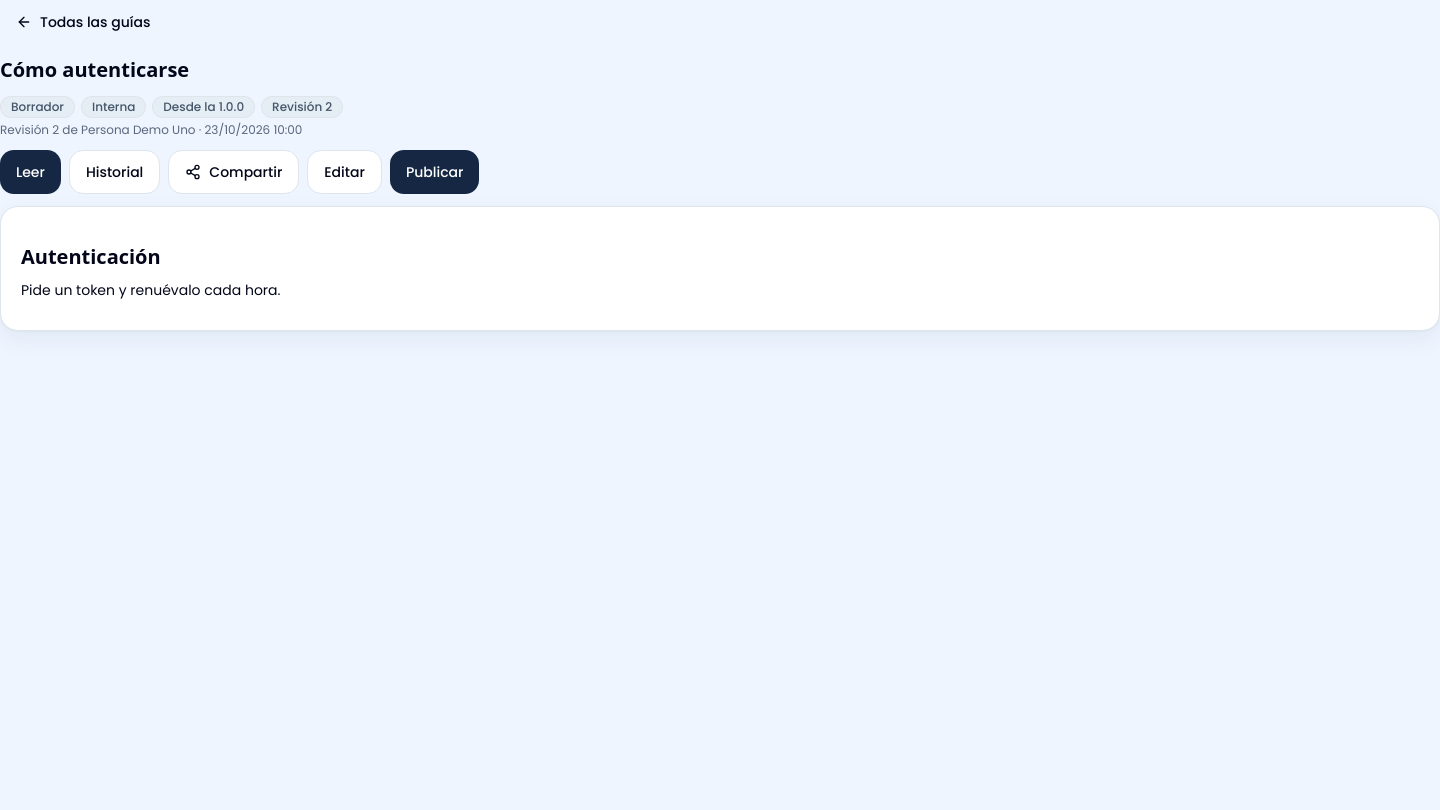
it: GuiasDelContrato › el historial compara dos revisiones línea a línea y restaura una creando otra
Click the button "Historial".
click(115, 172)  # box [69,150,160,194]
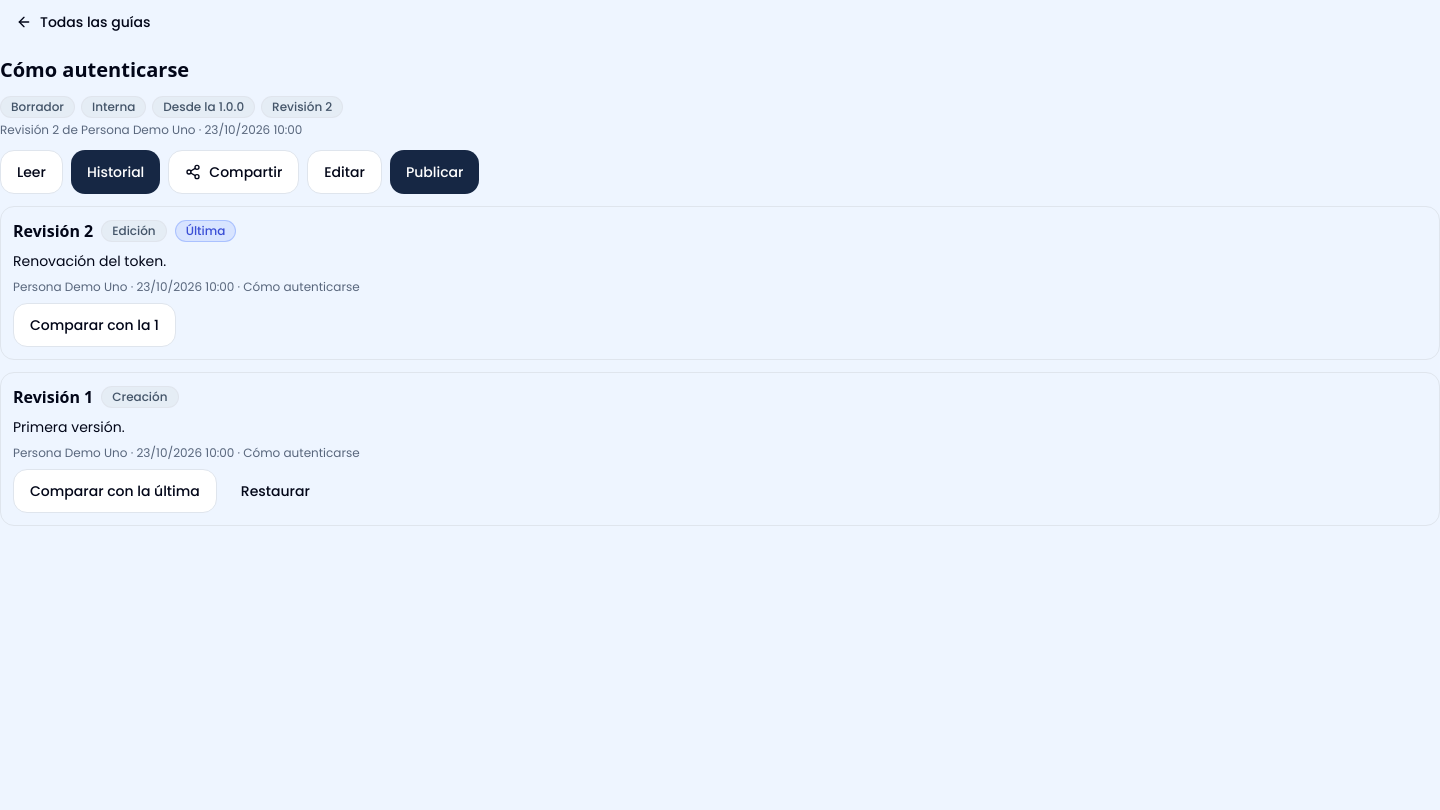
Result: the number of list items is 2 at [0,206,1439,360]; [0,372,1439,526]
Result: the text "Renovación del token." is shown at [13,251,166,271]
Click the button "Comparar con la 1".
click(94, 325)  # box [13,303,176,347]
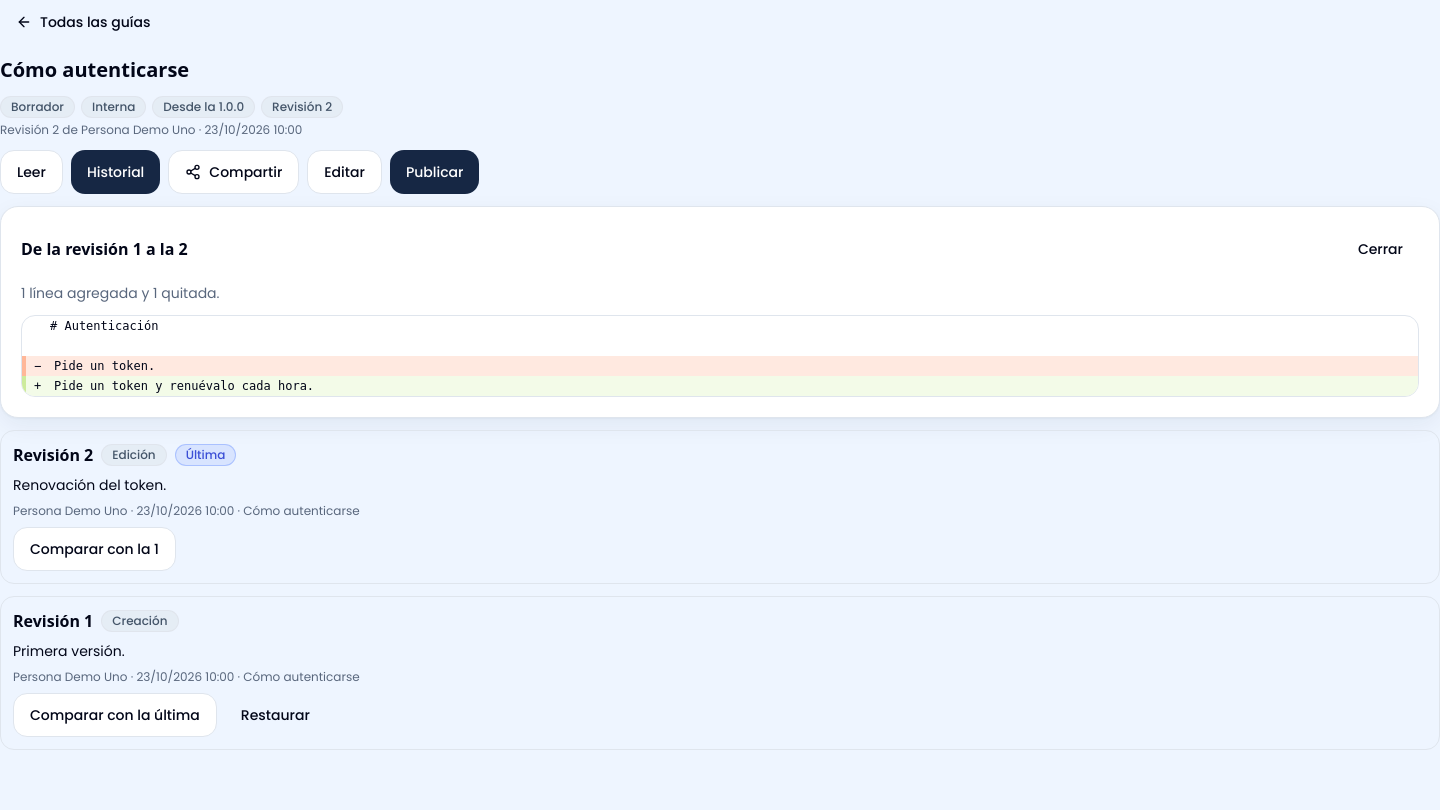
Result: the text "Pide un token." is shown at [54,358,155,374]
Result: the text "Pide un token y renuévalo cada hora." is shown at [54,378,314,394]
Result: the text "1 línea agregada y 1 quitada." is shown at [21,283,220,303]
Click the button "Restaurar".
click(275, 715)  # box [225,693,326,737]
(page scrolled)
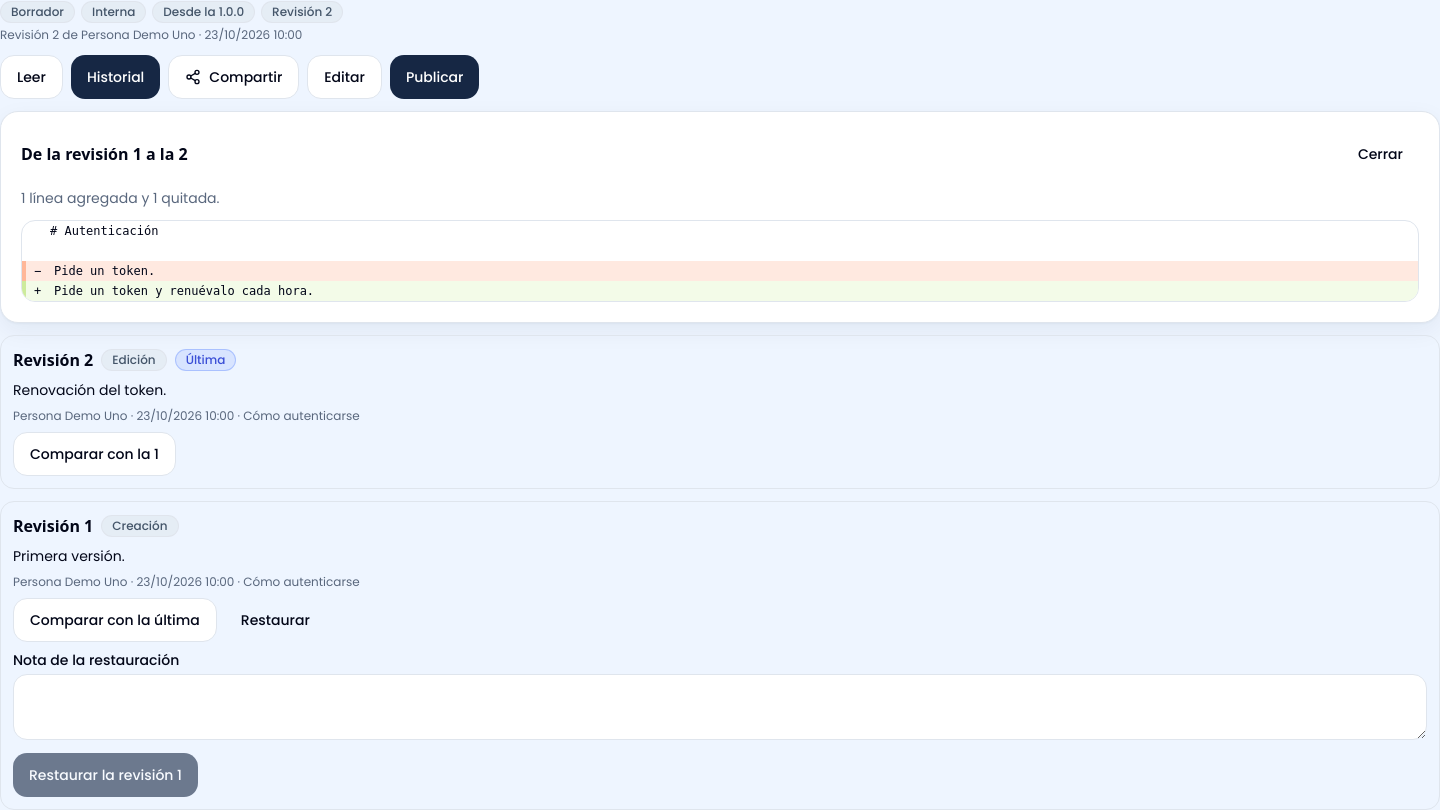
Type "Volvemos a la primera." into the text box labelled "Nota de la restauración".
click(720, 707); type("Volvemos a la primera.")  # box [13,674,1427,740]
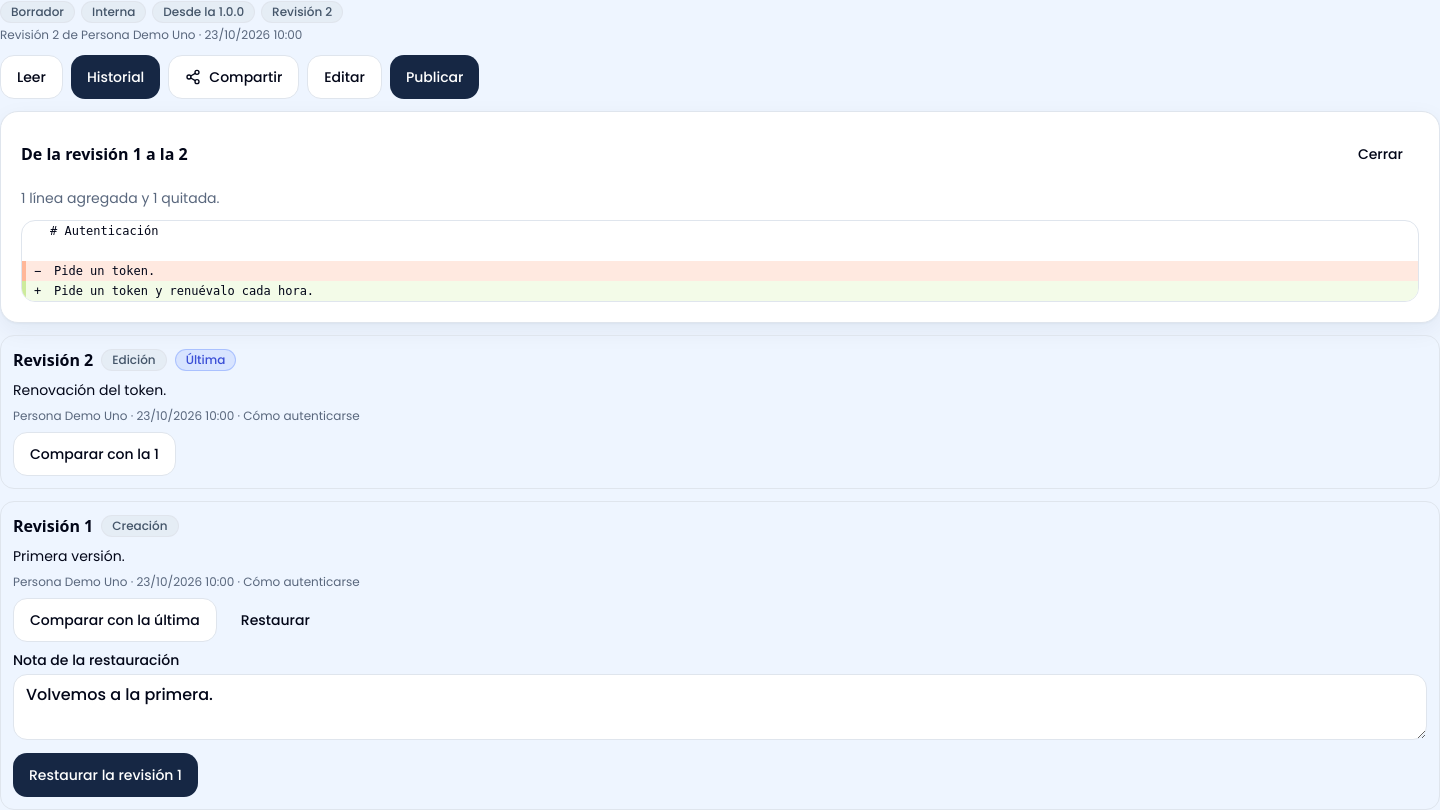
Click the button "Restaurar la revisión 1".
click(106, 775)  # box [13,753,198,797]
(page scrolled)
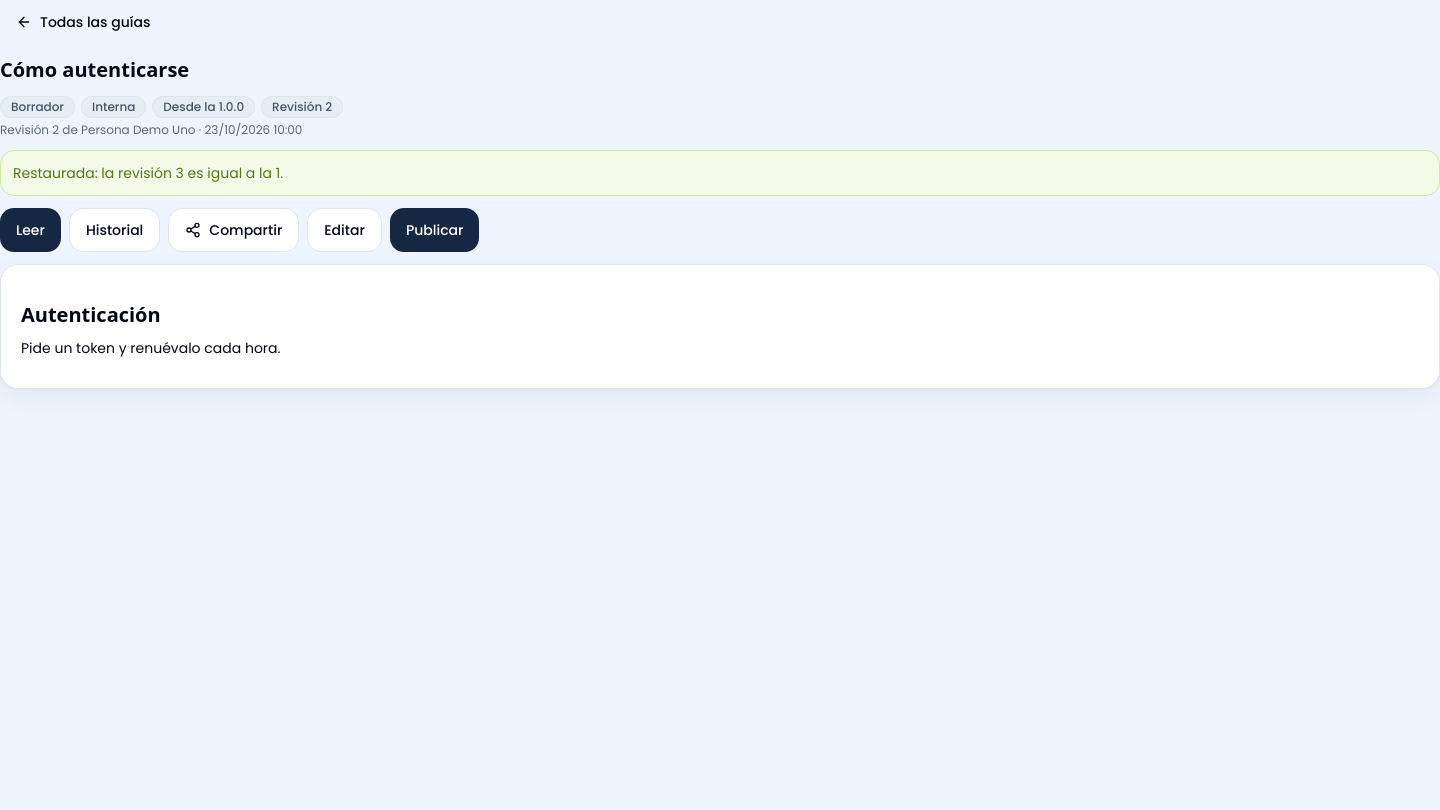
Result: the text "Restaurada: la revisión 3 es igual a la 1." is shown at [0,150,1439,196]
